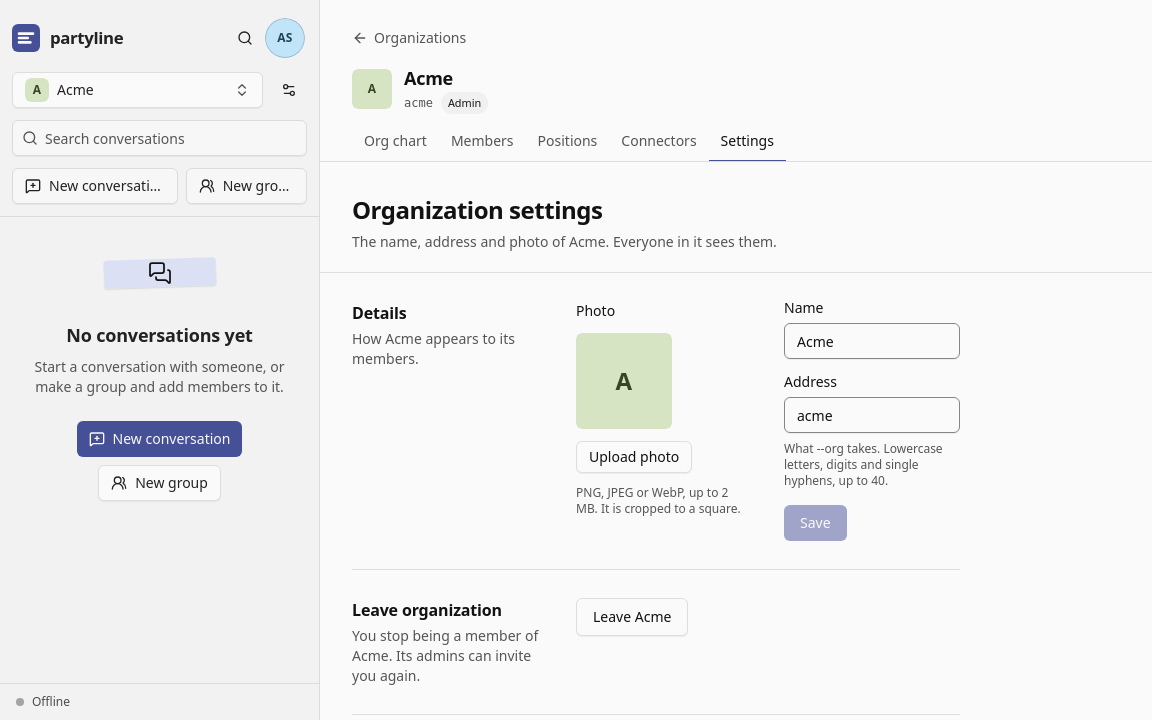
Test case: renaming (OMEM-04) › changes the address, in lower case, and sends only that
This screenshot has width=1152, height=720.
Replace the text in the field labelled "Address" with " Acme-Inc ": (872, 415) [784,397,960,433]
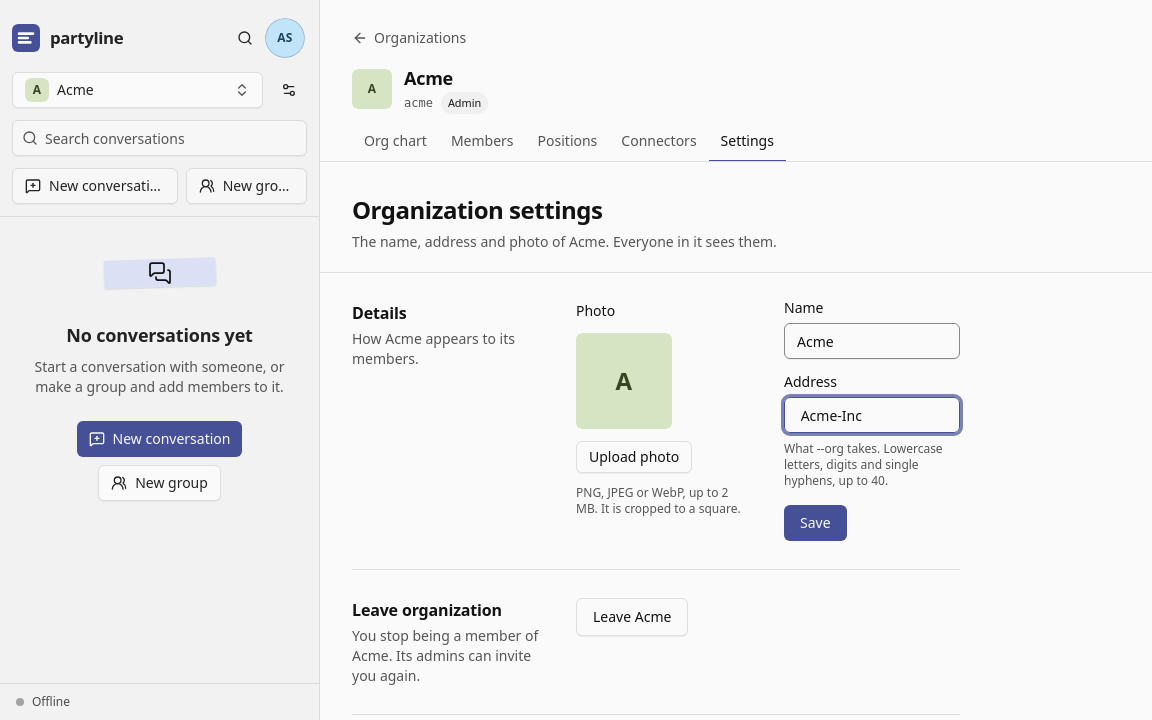
Click the button "Save": (815, 523) [784,505,847,541]
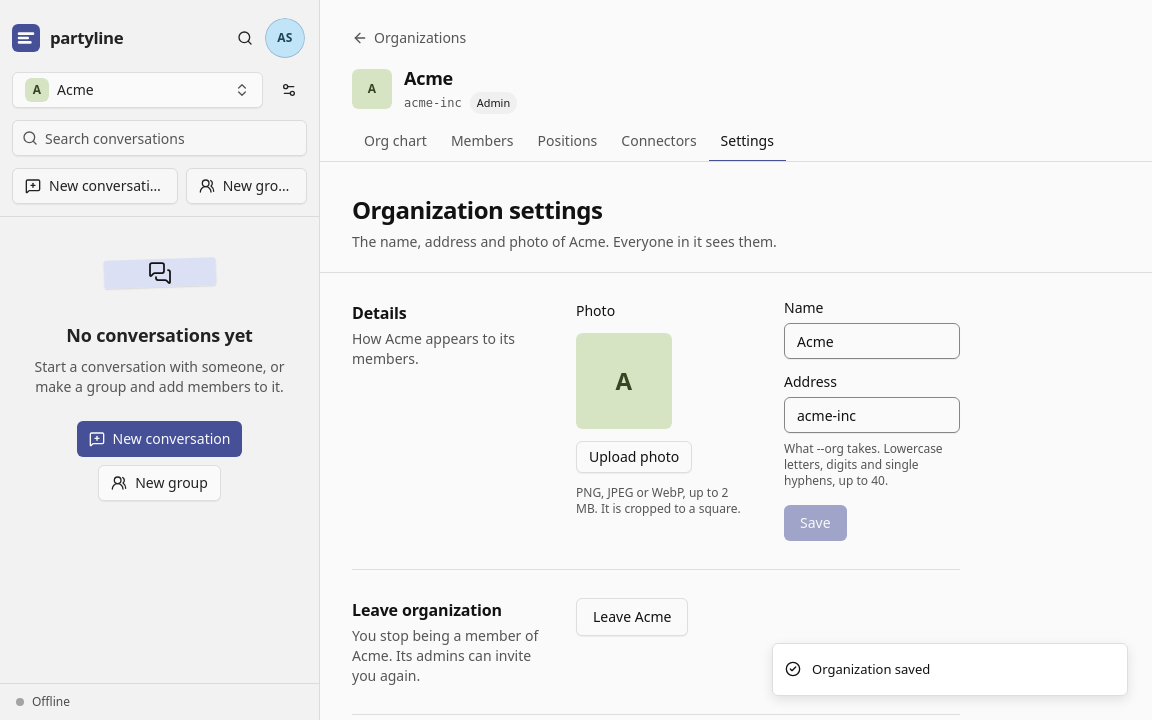
Expected: the text "Organization saved" is shown, [812,660,930,679]
Expected: the element with test id "org-bar" shows "acme-inc", [404,96,462,110]
